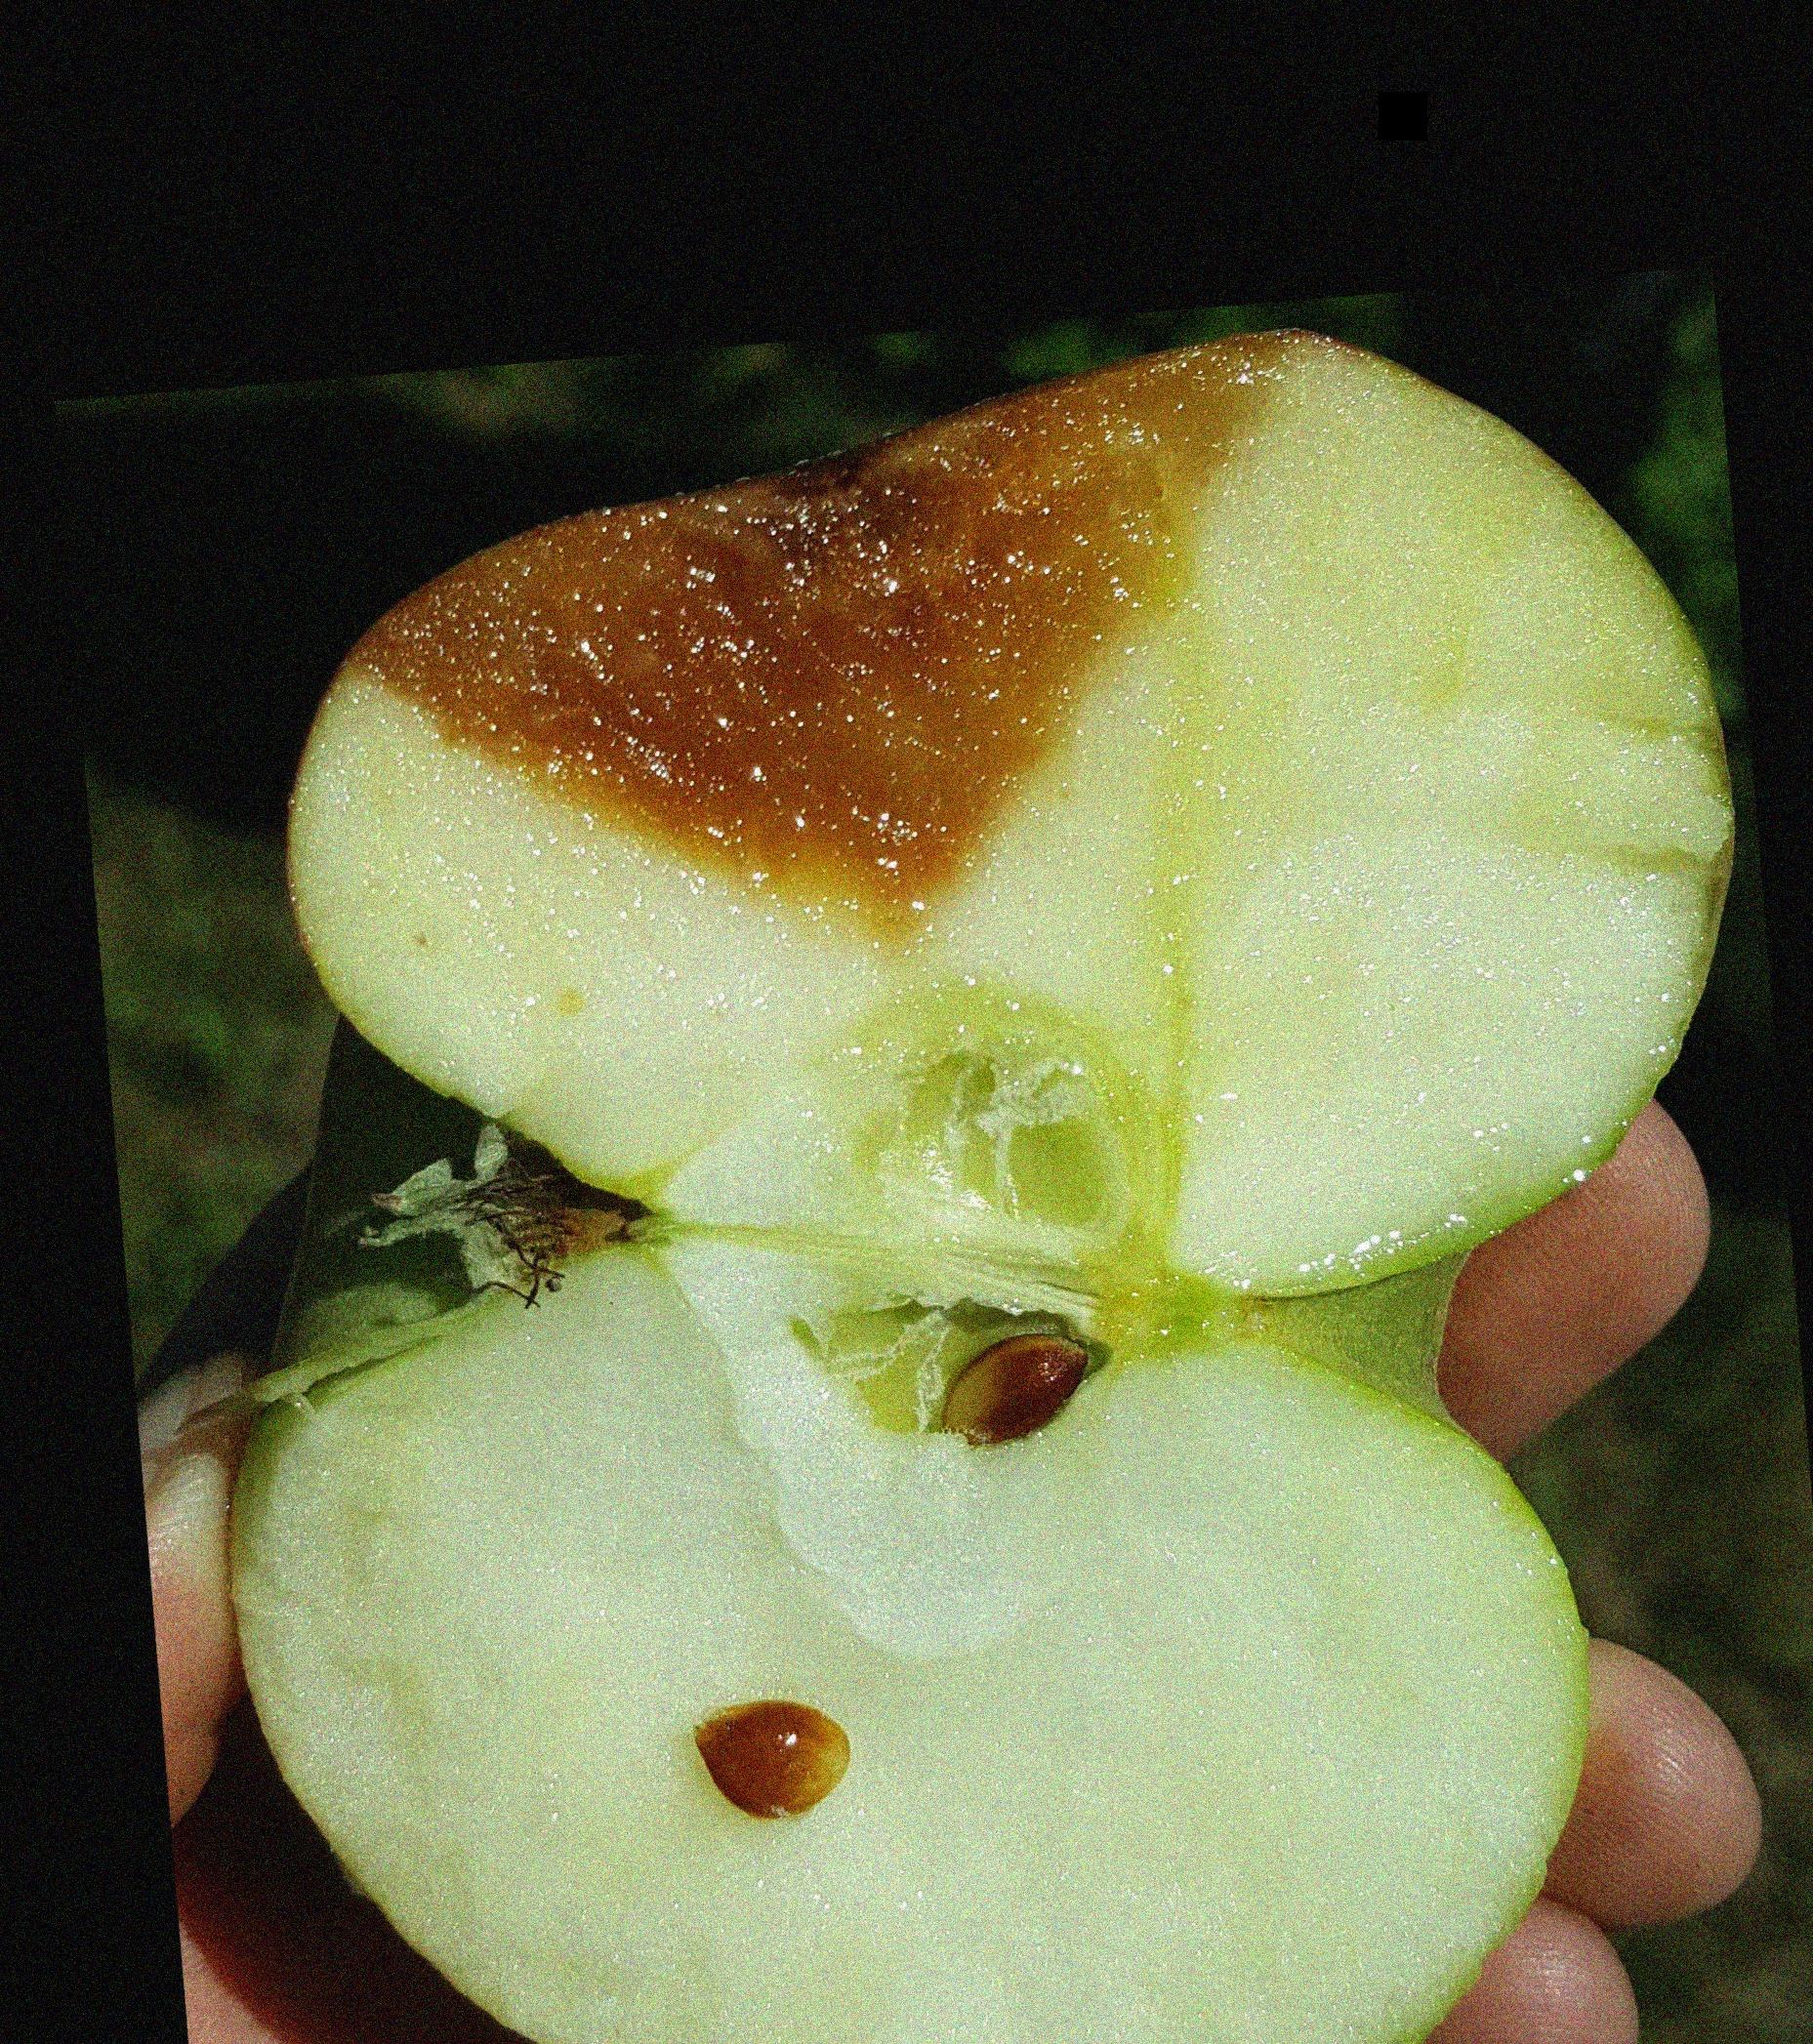rotten apple: (304, 425, 1533, 889)
